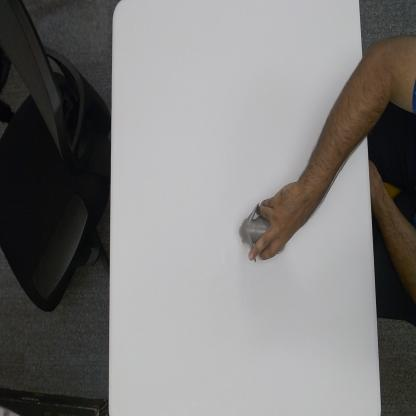Arm: (304, 55, 368, 219)
Elephant: (238, 201, 286, 257)
Hand: (249, 181, 305, 265)
